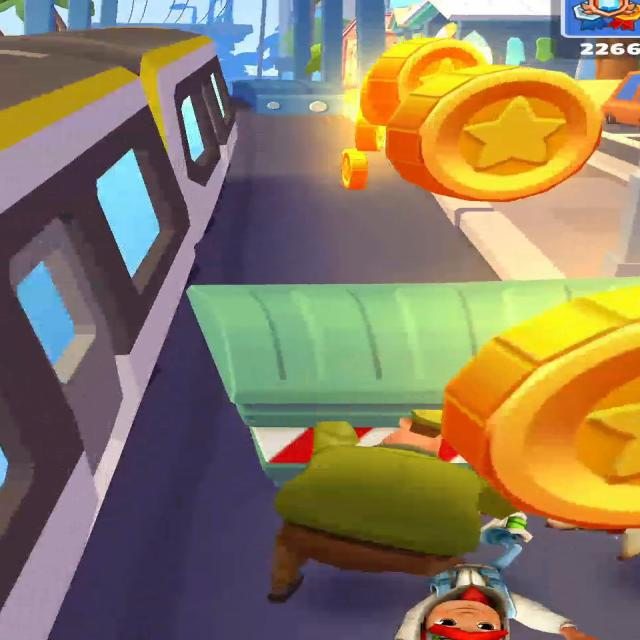police: (266, 355, 511, 596), (268, 411, 515, 602)
roll blocker: (253, 93, 342, 115)
train: (0, 37, 189, 640), (18, 26, 236, 241)
